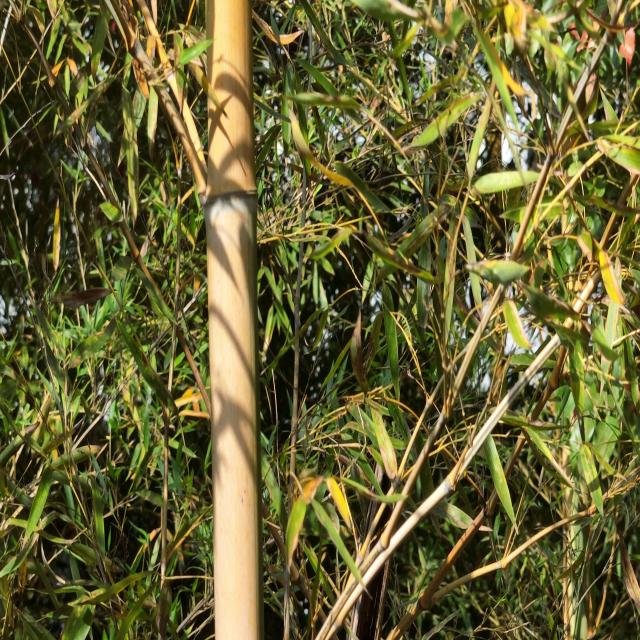Bamboo-shoots: (207, 0, 265, 640)
